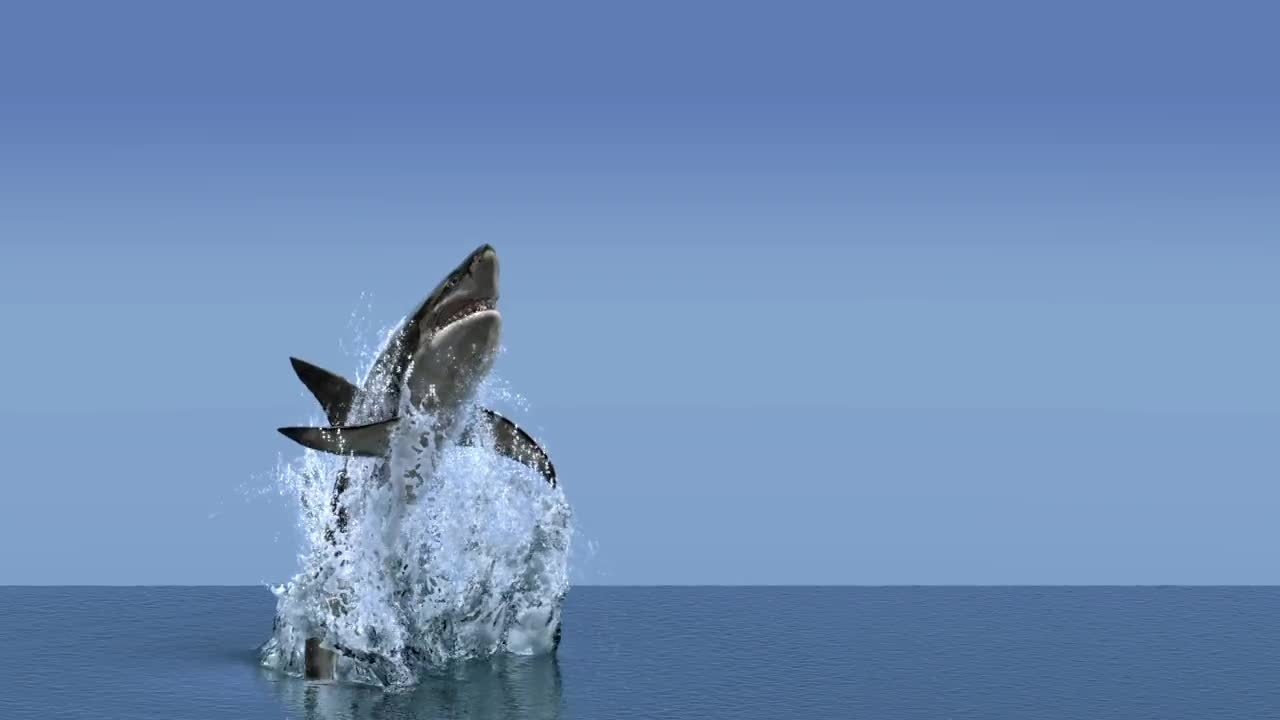fish: (269, 244, 562, 688)
